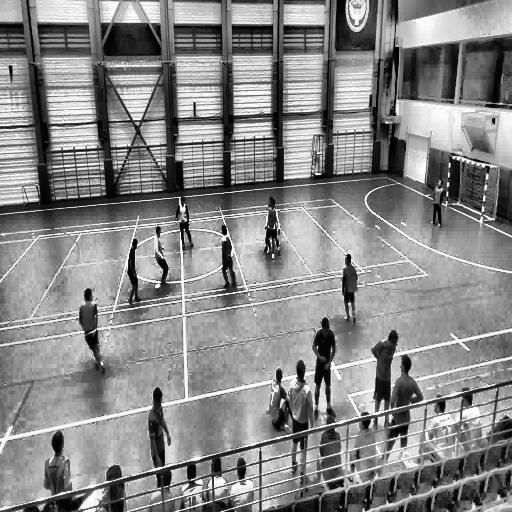ball: (154, 283, 161, 293)
player: (287, 360, 314, 484), (371, 329, 398, 430), (312, 316, 336, 424), (148, 387, 173, 483), (80, 286, 106, 373), (44, 430, 73, 506), (340, 252, 358, 325), (262, 197, 282, 258), (126, 236, 142, 304), (220, 223, 236, 290), (265, 199, 281, 262), (176, 196, 194, 248), (154, 224, 168, 288), (430, 178, 444, 228)
